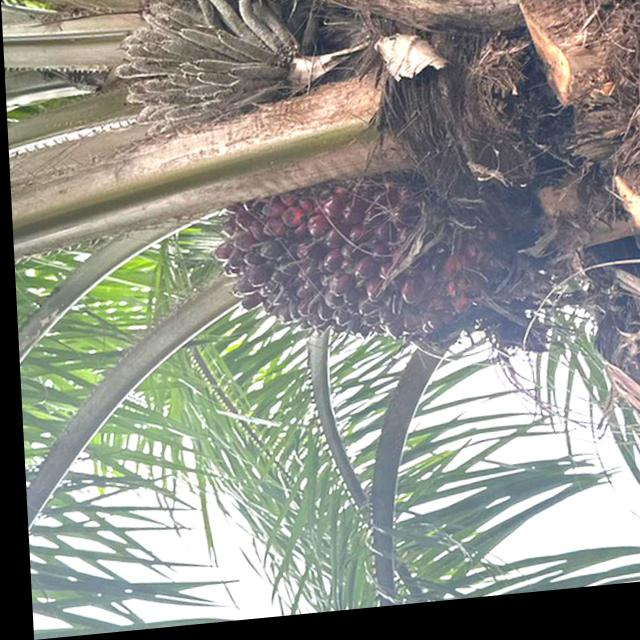ripe: (192, 159, 496, 385)
